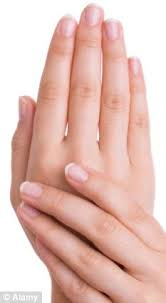hand: (8, 3, 164, 219)
